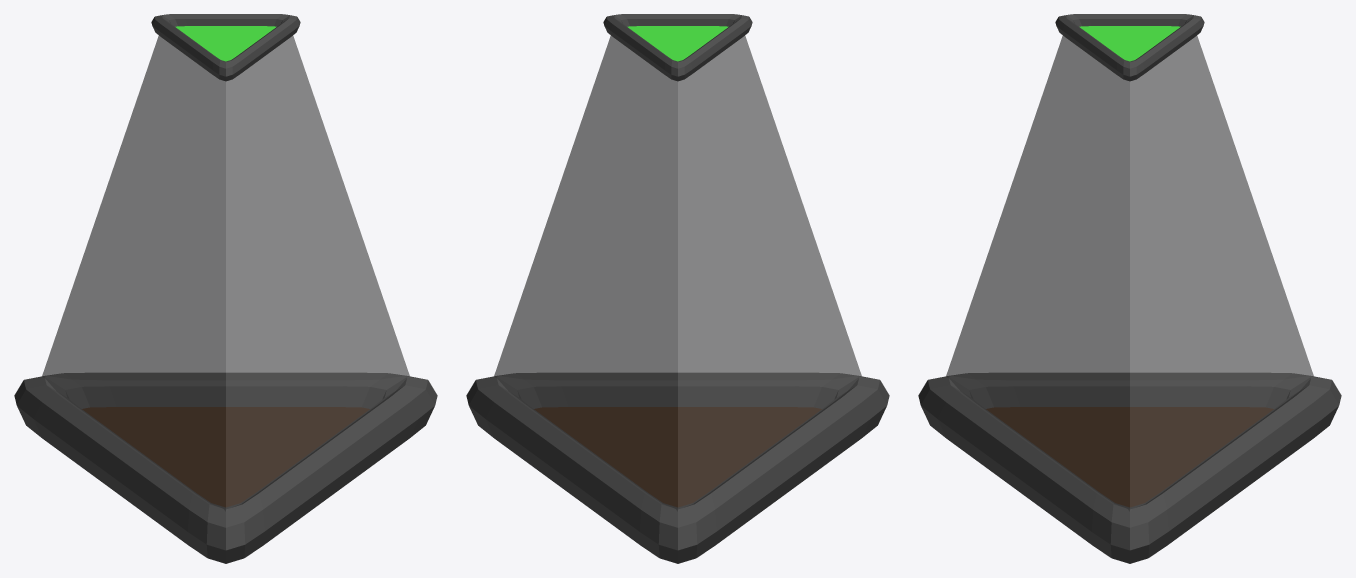
The model's file is GreenHouse.fbx.
The picture shows the model from 3 angles, left to right: view 1: azimuth 30°, elevation 25°; view 2: azimuth 150°, elevation 25°; view 3: azimuth 270°, elevation 25°; orthographic projection.
Visible parts, largest first — view 1: Glass, Base, Floor, Top, Roof; view 2: Glass, Base, Floor, Top, Roof; view 3: Glass, Base, Floor, Top, Roof.
Boxes of the visible parts, x1,y1,x2,y2 form: Glass: [42, 35, 409, 511]; Base: [14, 373, 437, 563]; Floor: [82, 407, 369, 507]; Top: [151, 14, 300, 81]; Roof: [175, 26, 276, 61]; Glass: [494, 35, 861, 511]; Base: [466, 373, 889, 563]; Floor: [534, 407, 821, 507]; Top: [603, 14, 752, 81]; Roof: [627, 26, 728, 61]; Glass: [946, 35, 1313, 511]; Base: [918, 373, 1341, 563]; Floor: [986, 407, 1273, 507]; Top: [1055, 14, 1204, 81]; Roof: [1079, 26, 1180, 61].
Size of the model in its own units: 165 by 214 by 185.
